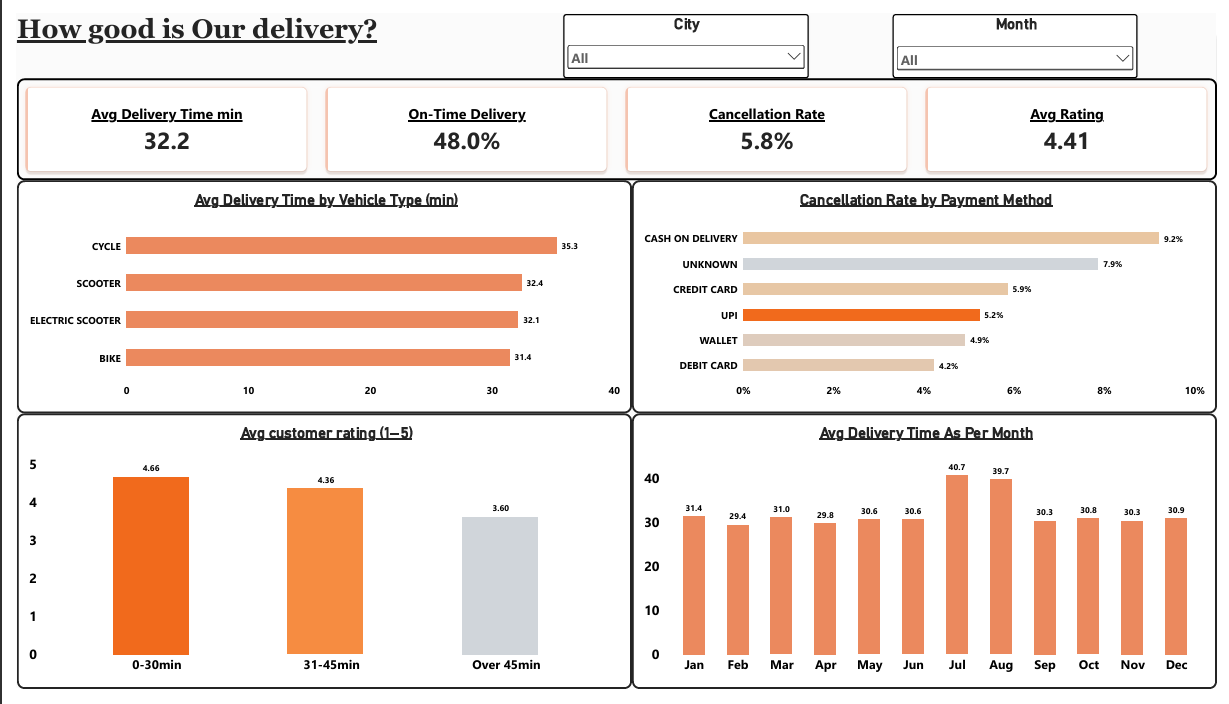

The dashboard page shown, as its layout file describes it:
{"tool":"powerbi","page":{"name":"Delivery","canvas":[1920,1080],"ordinal":2},"visuals":[{"type":"cardVisual","fields":{"Data":["Measures .Avg Delivery Time","Measures .On-Time Delivery %","Measures .Cancellation Rate %","Measures .Avg Rating"]},"box":[0,103.2,1920.1,162.9],"z":0},{"type":"slicer","title":"Month","fields":{"Values":["Calendar.Month Name"]},"box":[1400.7,0,392.7,103.2],"z":1000},{"type":"slicer","title":"City","fields":{"Values":["Orders.City"]},"box":[874.1,0,392.7,103.2],"z":2000},{"type":"textbox","box":[0,0,658.7,103.2],"z":3000},{"type":"clusteredColumnChart","title":"Avg Delivery Time As Per Month","fields":{"Category":["Calendar.Month Name"],"Y":["Measures .Avg Delivery Time"]},"box":[984.5,638.8,935.6,441.6],"z":4000},{"type":"clusteredBarChart","title":"Avg Delivery Time by Vehicle Type (min)","fields":{"Category":["Delivery_Partners.Vehicle_Type"],"Y":["Measures .Avg Delivery Time"]},"box":[0,266,984.5,372.8],"z":5000},{"type":"clusteredColumnChart","title":"Avg customer rating (1–5)","fields":{"Category":["Orders.Delivery_Band"],"Y":["Measures .Avg Rating"]},"box":[0,638.8,984.5,441.6],"z":6000},{"type":"clusteredBarChart","title":"Cancellation Rate by Payment Method","fields":{"Category":["Orders.Payment_Method"],"Y":["Measures .Cancellation Rate %"]},"box":[984.5,266,935.6,372.8],"z":7000}]}

Visuals, with their boxes in screenshot pixels (x1, y1, x2, y2), scaled from the page's 1920x1080 canvas onto the 1229x704 screenshot:
cardVisual - Measures .Avg Delivery Time x Measures .On-Time Delivery %: 0, 67, 1228, 173
"Month" slicer: 897, 0, 1148, 67
"City" slicer: 560, 0, 811, 67
textbox: 0, 0, 422, 67
"Avg Delivery Time As Per Month" clusteredColumnChart: 630, 416, 1228, 703
"Avg Delivery Time by Vehicle Type (min)" clusteredBarChart: 0, 173, 630, 416
"Avg customer rating (1–5)" clusteredColumnChart: 0, 416, 630, 703
"Cancellation Rate by Payment Method" clusteredBarChart: 630, 173, 1228, 416
